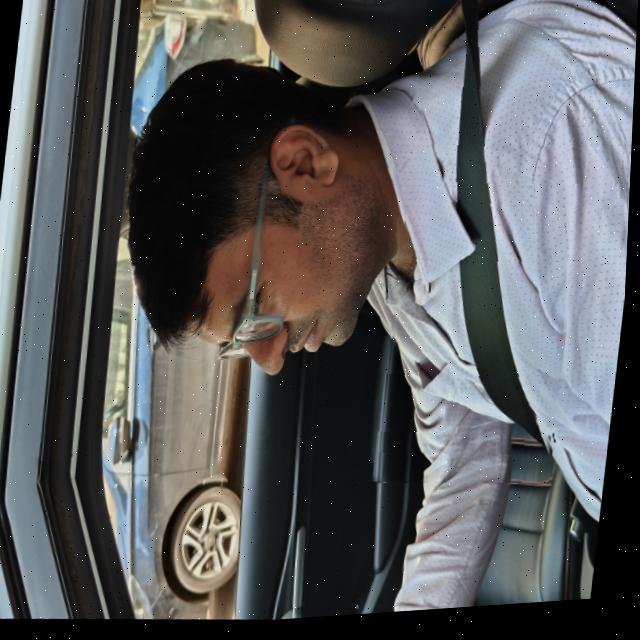seatbelt: (376, 0, 606, 500)
